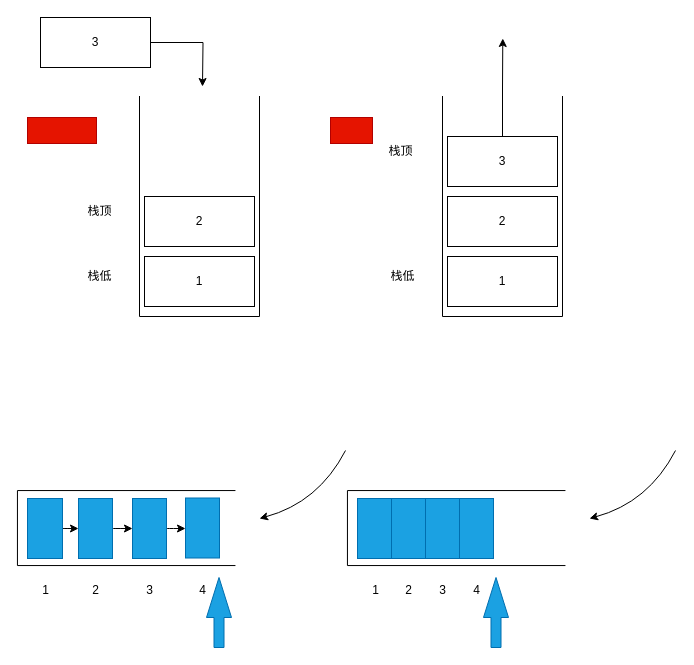
This 694x665 diagram has some shape labels left out. Here are the shapes that lost their labels. From the top down, the centre of each, then its label:
At point 61,130: "压栈/入栈".
At point 351,130: "出栈".
